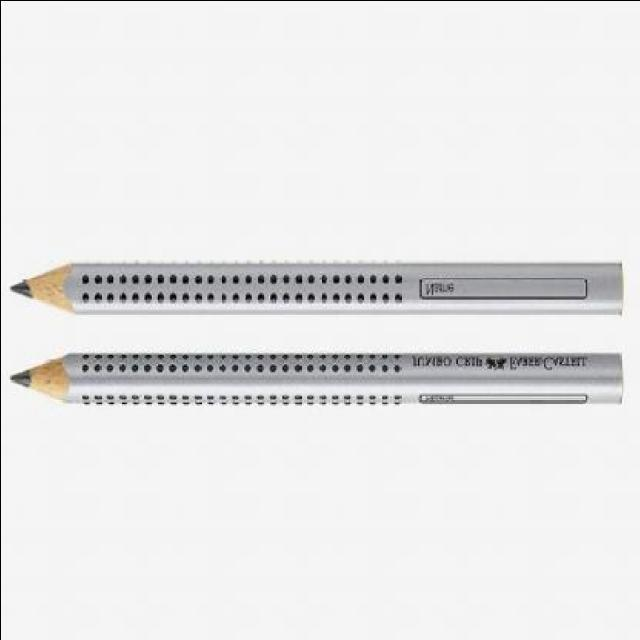pencil: (4, 344, 87, 408), (5, 256, 87, 318)
